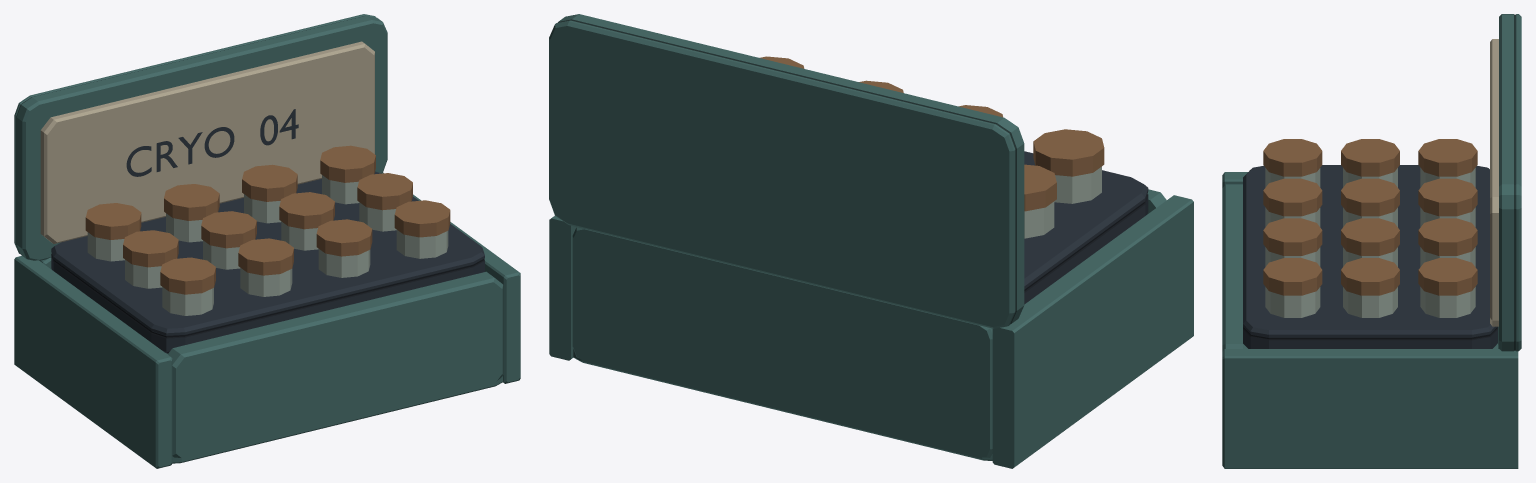
Rendered from R-05_archive_cassette.glb.
3 renders of one model, left to right at view 1: azimuth 30°, elevation 25°; view 2: azimuth 150°, elevation 25°; view 3: azimuth 270°, elevation 25°, orthographic. The views are drawn at different scales.
Visible parts, largest first — view 1: R-05_archive_cassette; view 2: R-05_archive_cassette; view 3: R-05_archive_cassette.
Part boxes in pixels (x1,y1,x2,y2): R-05_archive_cassette: (14,14,520,468); R-05_archive_cassette: (549,14,1193,468); R-05_archive_cassette: (1222,14,1521,468).
Bounding box in the file's own units: 0.43 × 0.3 × 0.293.
